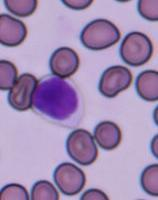L: (30, 74, 86, 127)
